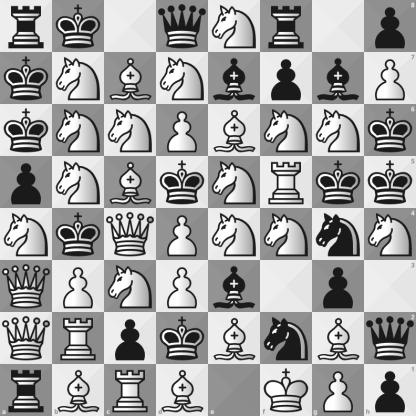B: (156, 364, 209, 416), (52, 364, 104, 416), (105, 53, 156, 104), (105, 157, 156, 208), (209, 105, 260, 156), (209, 313, 260, 364), (313, 313, 364, 364)
K: (260, 364, 312, 416)
N: (364, 209, 416, 260), (1, 209, 52, 260), (53, 53, 104, 104), (53, 105, 104, 156), (53, 157, 104, 208), (105, 105, 156, 156), (105, 261, 156, 312), (157, 53, 208, 104), (209, 1, 260, 52), (209, 157, 260, 208), (209, 209, 260, 260), (261, 105, 312, 156), (261, 209, 312, 260), (313, 105, 364, 156)
P: (312, 364, 364, 416), (364, 52, 416, 104), (53, 261, 104, 312), (157, 105, 208, 156), (157, 209, 208, 260), (157, 261, 208, 312)
Q: (1, 261, 52, 312), (1, 313, 52, 364), (105, 209, 156, 260)
R: (104, 364, 156, 416), (53, 313, 104, 364), (261, 157, 312, 208)
b: (209, 53, 260, 104), (209, 261, 260, 312), (313, 53, 364, 104)
board: (0, 0, 415, 415)
k: (364, 156, 416, 209), (364, 104, 416, 156), (1, 53, 52, 104), (1, 105, 52, 156), (53, 1, 104, 52), (53, 209, 104, 260), (157, 157, 208, 208), (157, 313, 208, 364), (313, 157, 364, 208)
n: (261, 313, 312, 364), (313, 209, 364, 260)
p: (364, 0, 416, 52), (364, 364, 416, 416), (1, 157, 52, 208), (105, 313, 156, 364), (261, 53, 312, 104), (313, 261, 364, 312)
q: (364, 312, 416, 364), (157, 1, 208, 52)
r: (0, 364, 52, 416), (1, 1, 52, 52), (261, 1, 312, 52)
